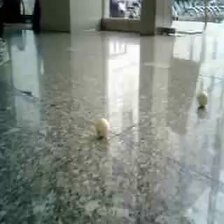w: (94, 118, 110, 136), (195, 92, 209, 108)
